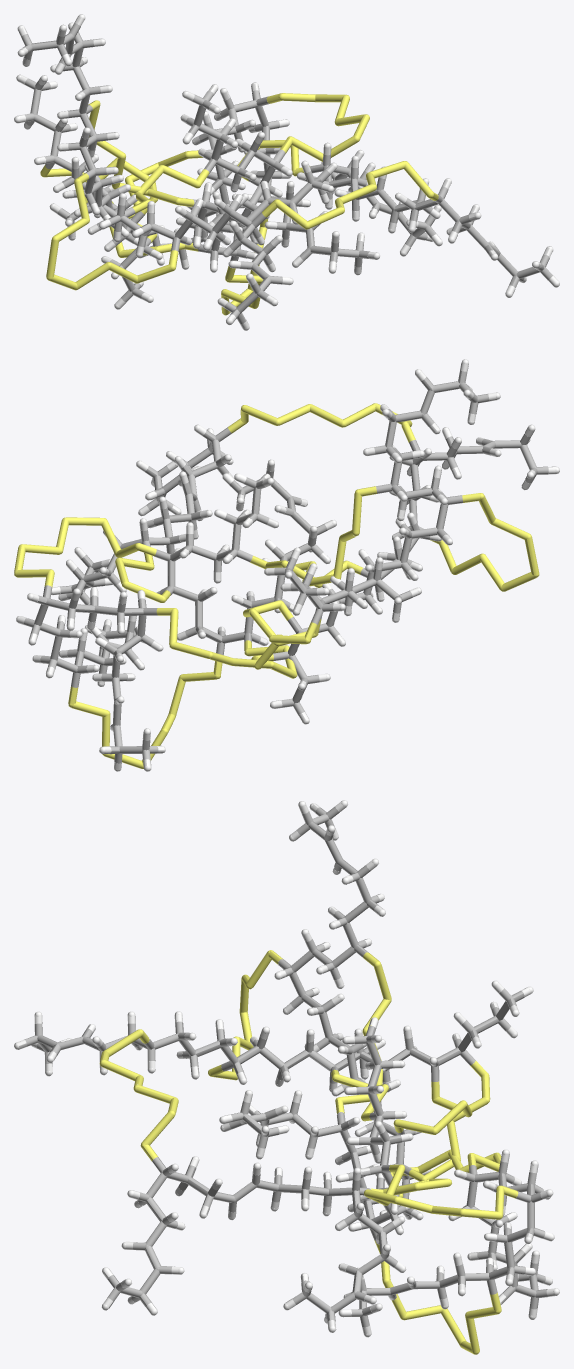
File: Elastomer_Stick_black.glb
3 renders of one model, top to bottom at view 1: azimuth 30°, elevation 25°; view 2: azimuth 150°, elevation 25°; view 3: azimuth 270°, elevation 25°, orthographic. The views are drawn at different scales.
Size of the model in its own units: 0.6793 by 0.5827 by 0.6795.
